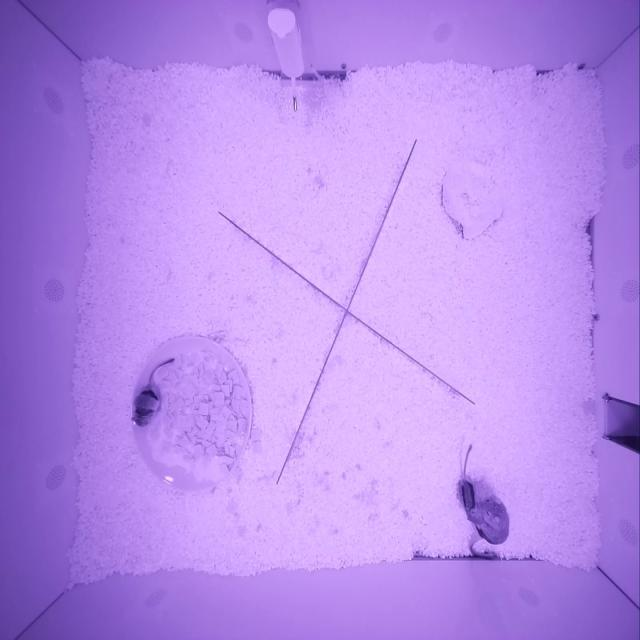adult_back: (475, 495, 510, 544)
pup_h_stripe: (131, 383, 161, 427)
pup_v_stripe: (457, 477, 482, 524)
